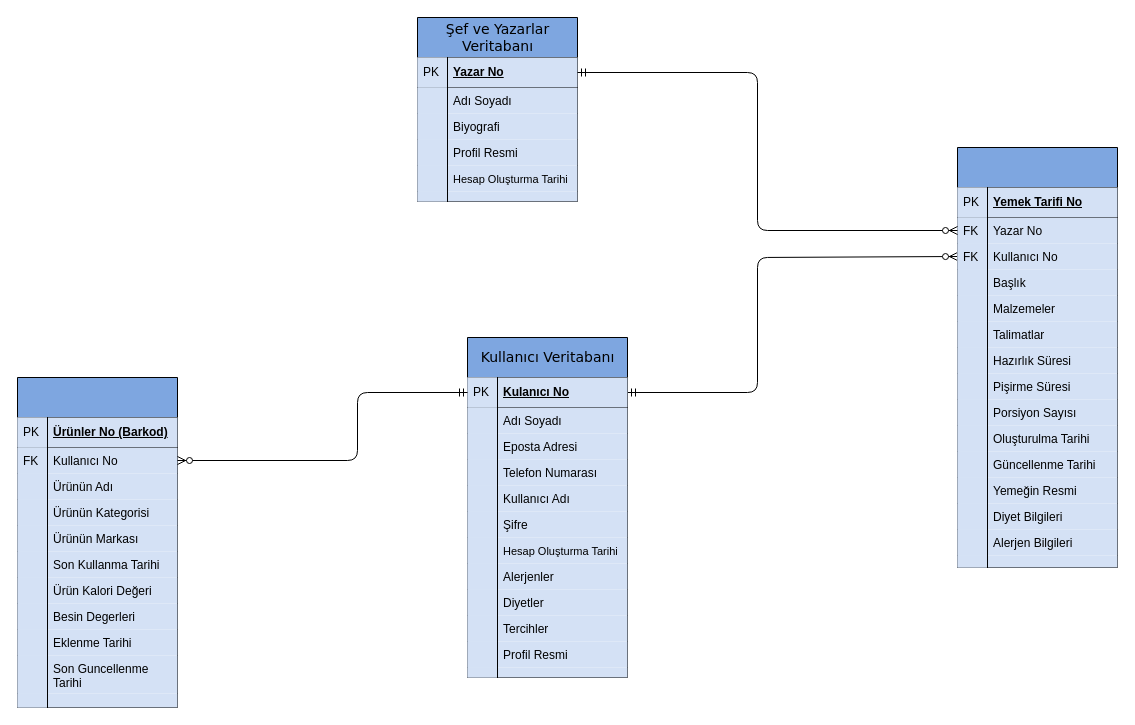
Image size: 1135x725. Some labels were removed from this diagram. The shapes that lost their labels are listed below. From the top down, each one's box as (x1, y1, x2, y2) in pixels, then its label:
(956, 146, 1118, 568): Yemek Tarifi Veritabanı
(16, 376, 178, 708): Ürünler Veritabanı
